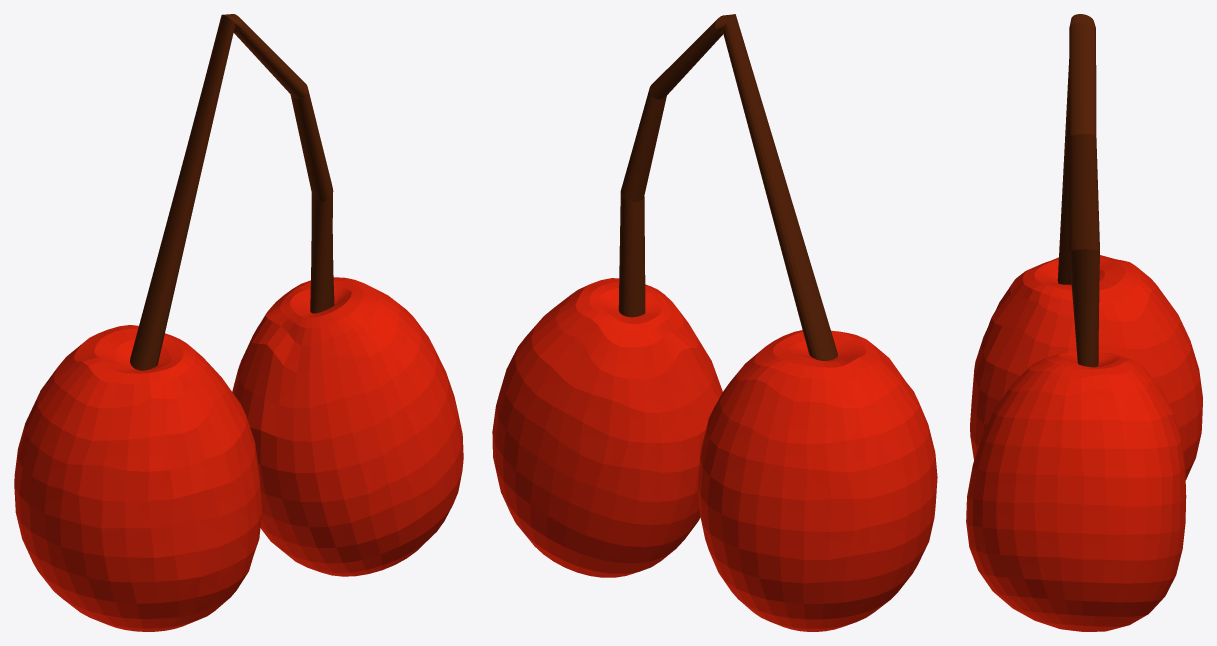
File: Cherry 1.fbx
3 views of the same model, side by side, from view 1: azimuth 30°, elevation 25°; view 2: azimuth 150°, elevation 25°; view 3: azimuth 270°, elevation 25° (orthographic). The views are drawn at different scales.
Visible parts, largest first — view 1: Sphere; view 2: Sphere; view 3: Sphere.
Boxes of the visible parts, left/top/right/bottom form: Sphere: left=14, top=14, right=463, bottom=631; Sphere: left=492, top=14, right=937, bottom=631; Sphere: left=966, top=14, right=1202, bottom=631.
Size of the model in its own units: 192 by 261 by 99.92.
